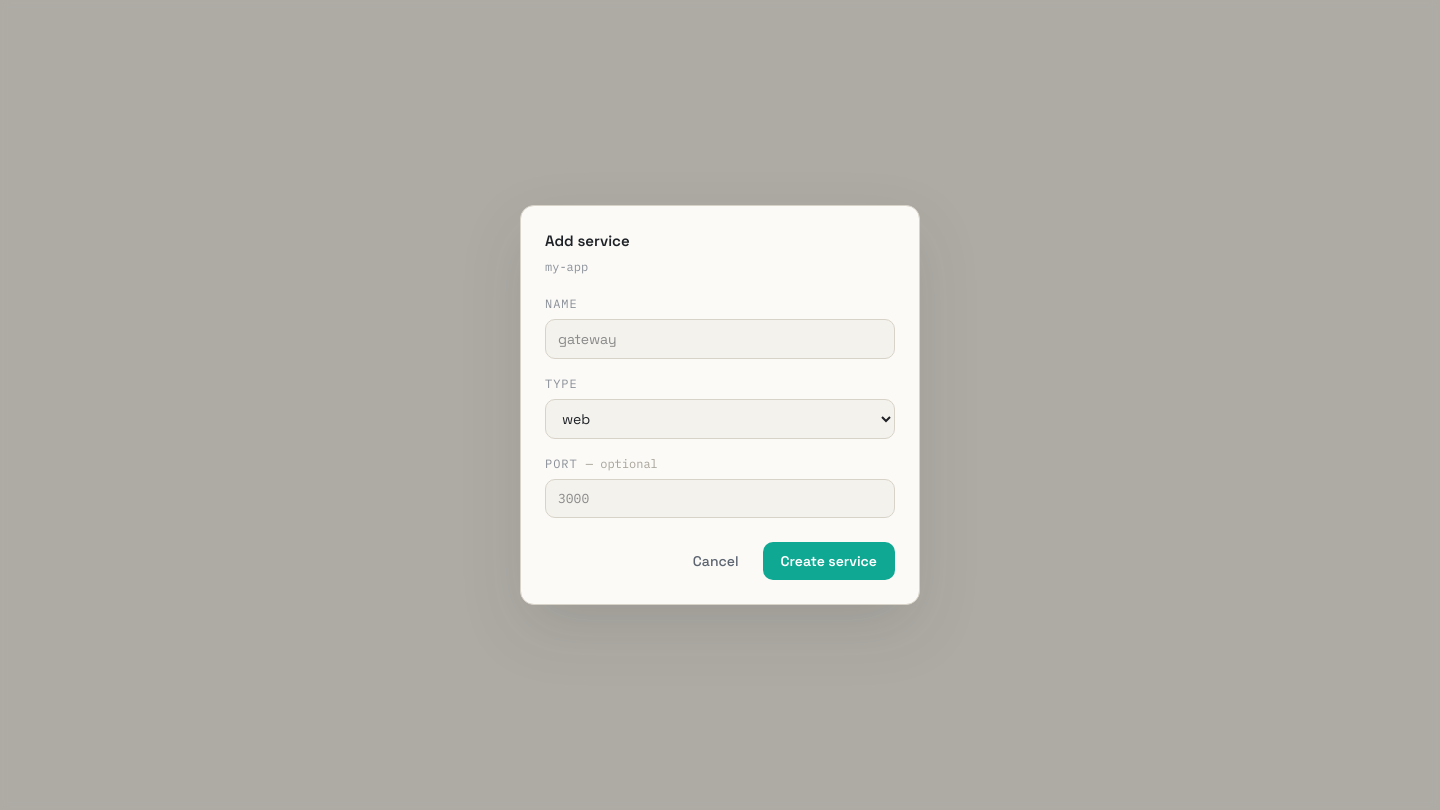
Test case: AddServiceModal › shows a validation error and does not submit when the name is empty
Click the button "Create service".
click(829, 561)  # box [763,542,895,580]
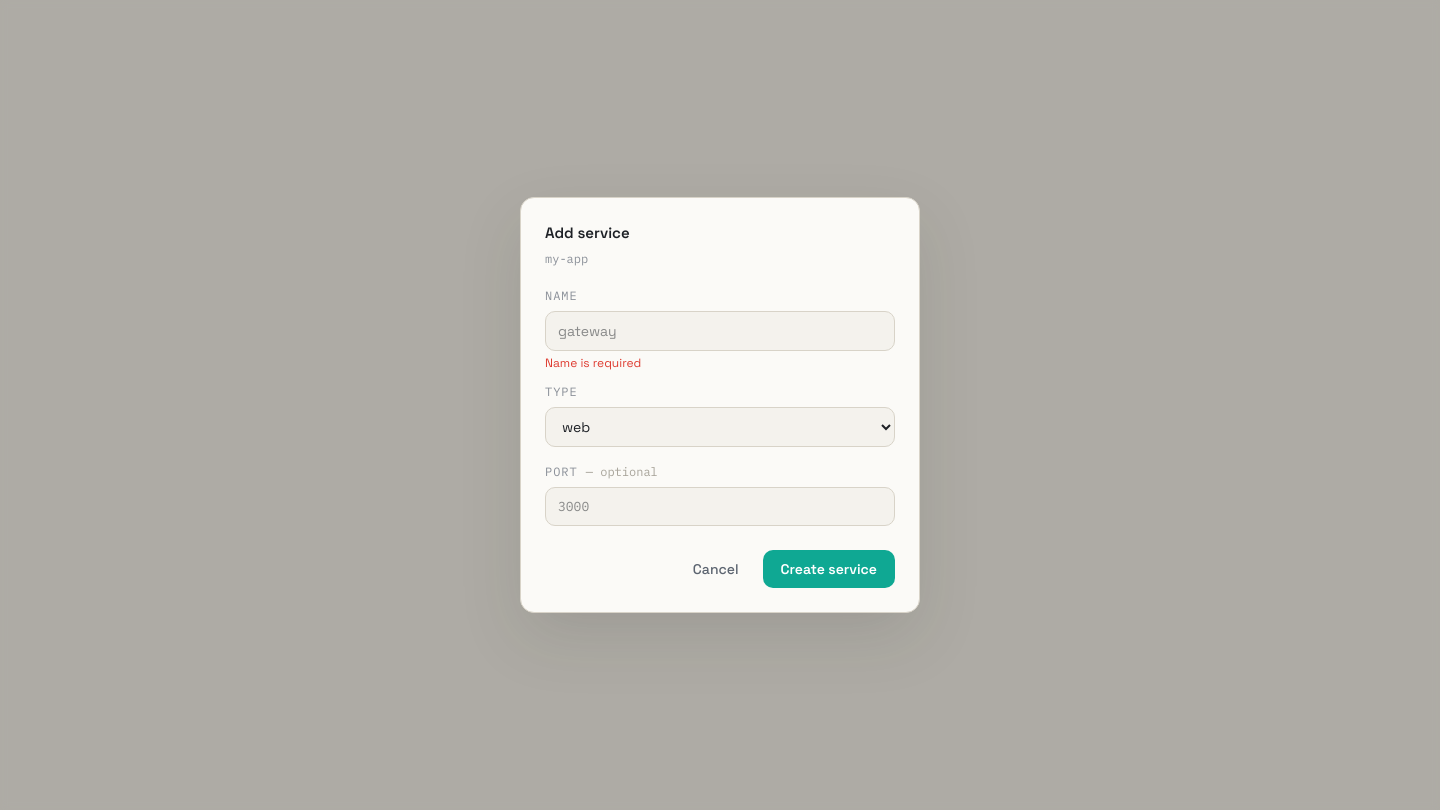
Expected: the text "Name is required" is shown, [545,354,641,370]
